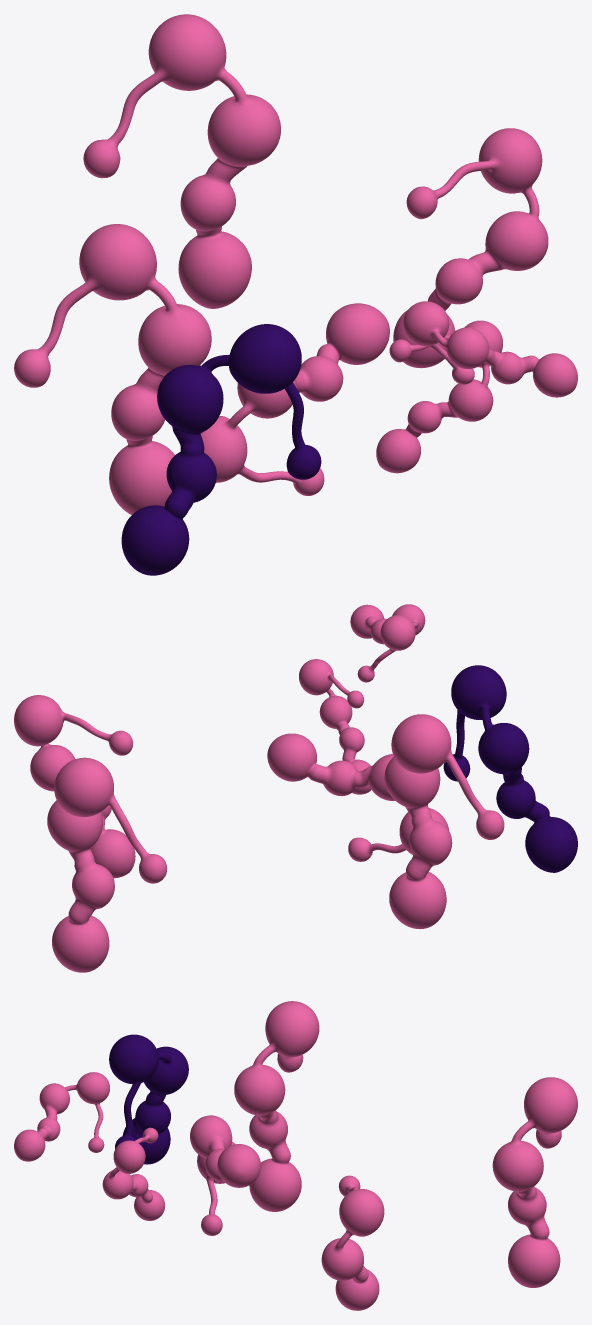
3 views of the same model, one above another, from view 1: azimuth 30°, elevation 25°; view 2: azimuth 150°, elevation 25°; view 3: azimuth 270°, elevation 25° (orthographic). The views are drawn at different scales.
Visible parts, largest first — view 1: Retopo_inst_5; view 2: Retopo_inst_5; view 3: Retopo_inst_5.
Boxes of the visible parts, left/top/right/bottom form: Retopo_inst_5: left=14, top=14, right=577, bottom=575; Retopo_inst_5: left=14, top=604, right=577, bottom=972; Retopo_inst_5: left=14, top=1001, right=577, bottom=1310.
Size of the model in its own units: 148 by 73.76 by 178.
